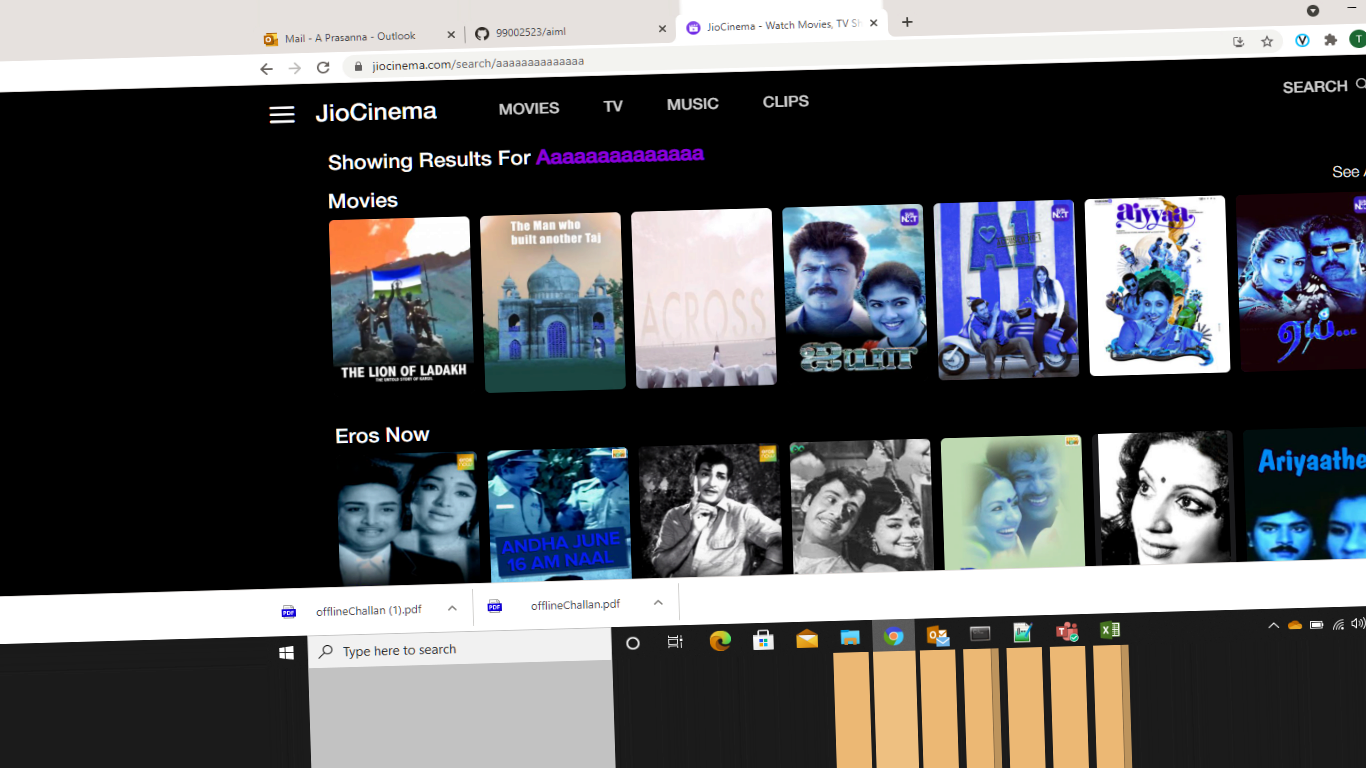noresultsfound: (293, 146, 723, 180)
searchicon: (1267, 65, 1366, 100)
